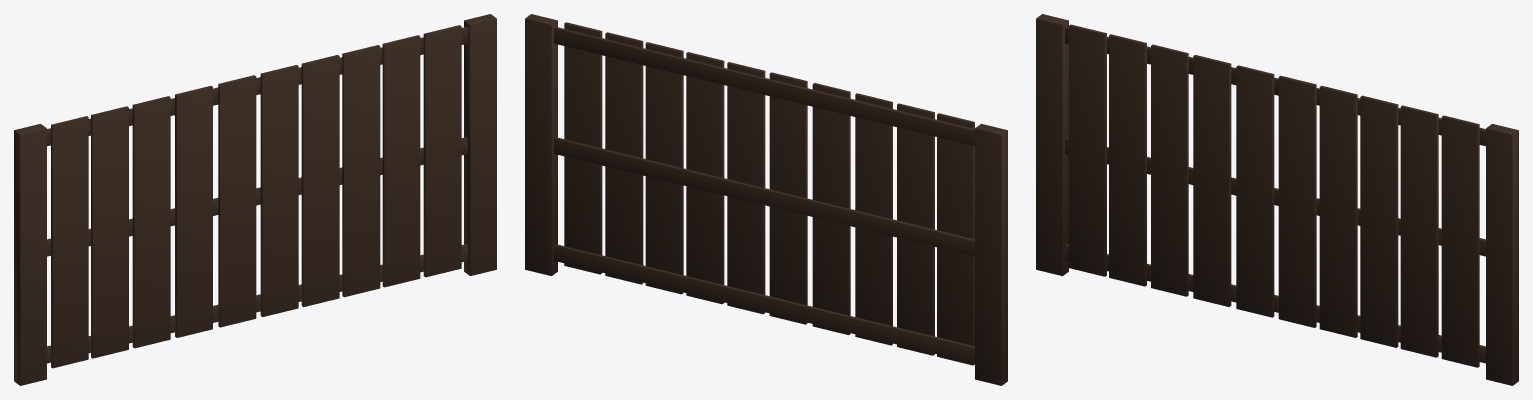
File: fence.fbx
The picture shows the model from 3 angles, left to right: view 1: azimuth 30°, elevation 25°; view 2: azimuth 150°, elevation 25°; view 3: azimuth 330°, elevation 25°; orthographic projection.
Parts seen in each view (by area): view 1: Wooden Fence Slats.001; view 2: Wooden Fence Slats.001; view 3: Wooden Fence Slats.001.
Boxes of the visible parts, x1,y1,x2,y2 form: Wooden Fence Slats.001: (14, 14, 496, 385); Wooden Fence Slats.001: (525, 14, 1007, 385); Wooden Fence Slats.001: (1036, 14, 1518, 385).
Bounding box in the file's own units: 228 × 115 × 5.25.
